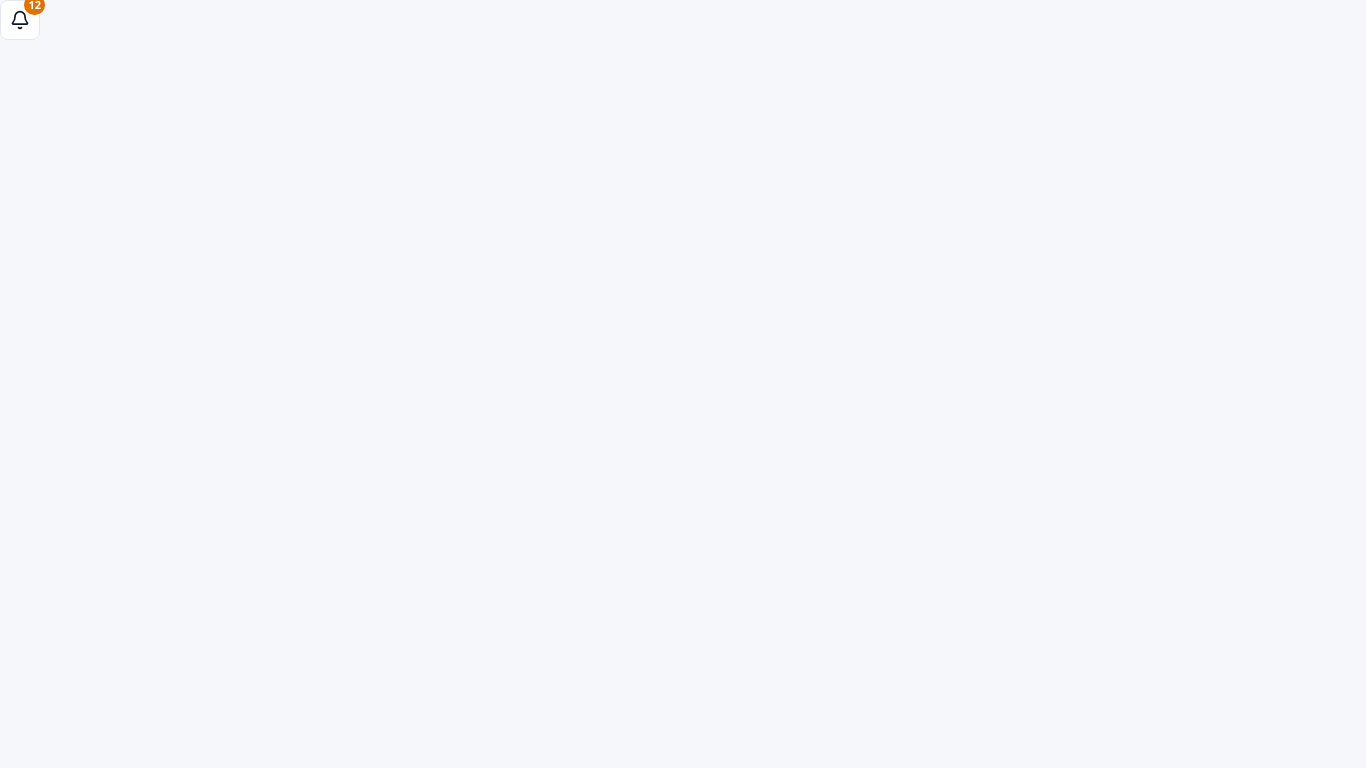
Test case: NotificationBell › caps the list and points to the dashboard for the rest
The width and height of the screenshot is (1366, 768).
Click the button named "Notifications, 12" at {"x": 20, "y": 20}, box [0,0,40,40]
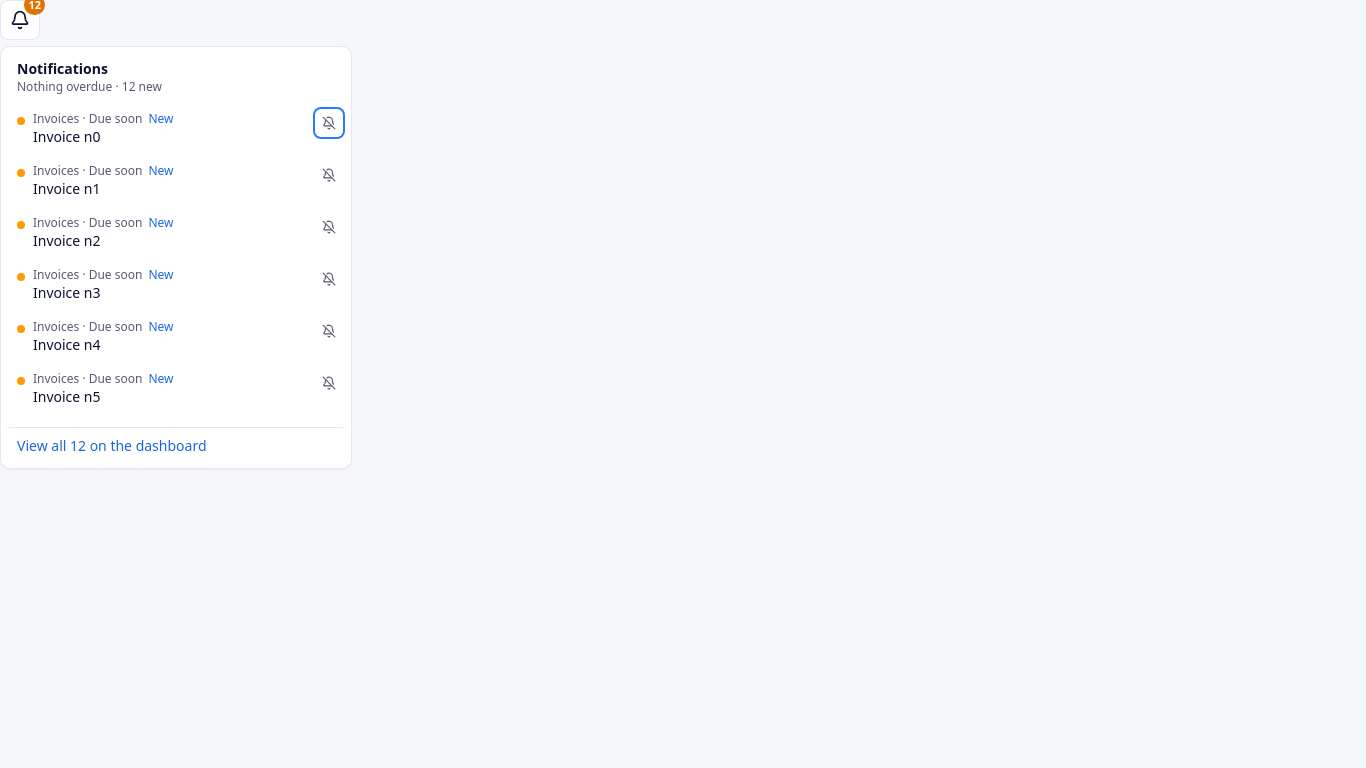
Expected: the number of links "Invoice n" is 8
Expected: the link "View all 12 on the dashboard" is shown, [5,427,347,464]
